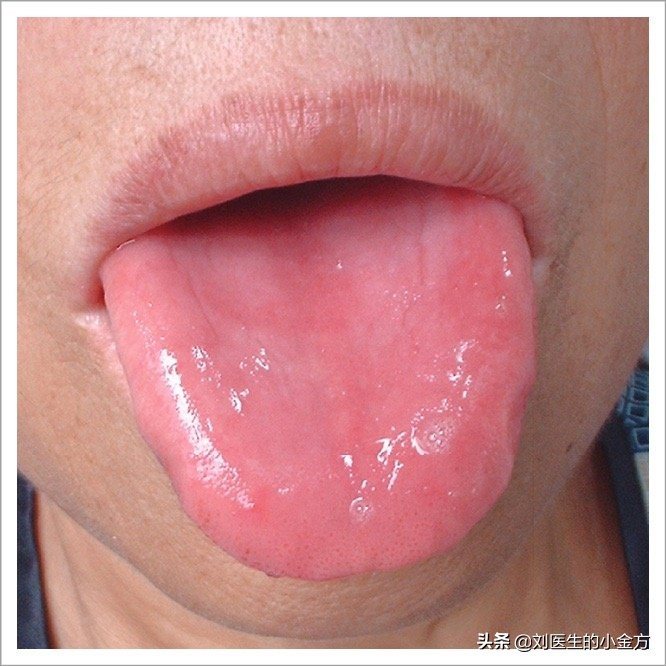hongshe: (99, 175, 537, 579)
huataishe: (341, 335, 482, 522)
